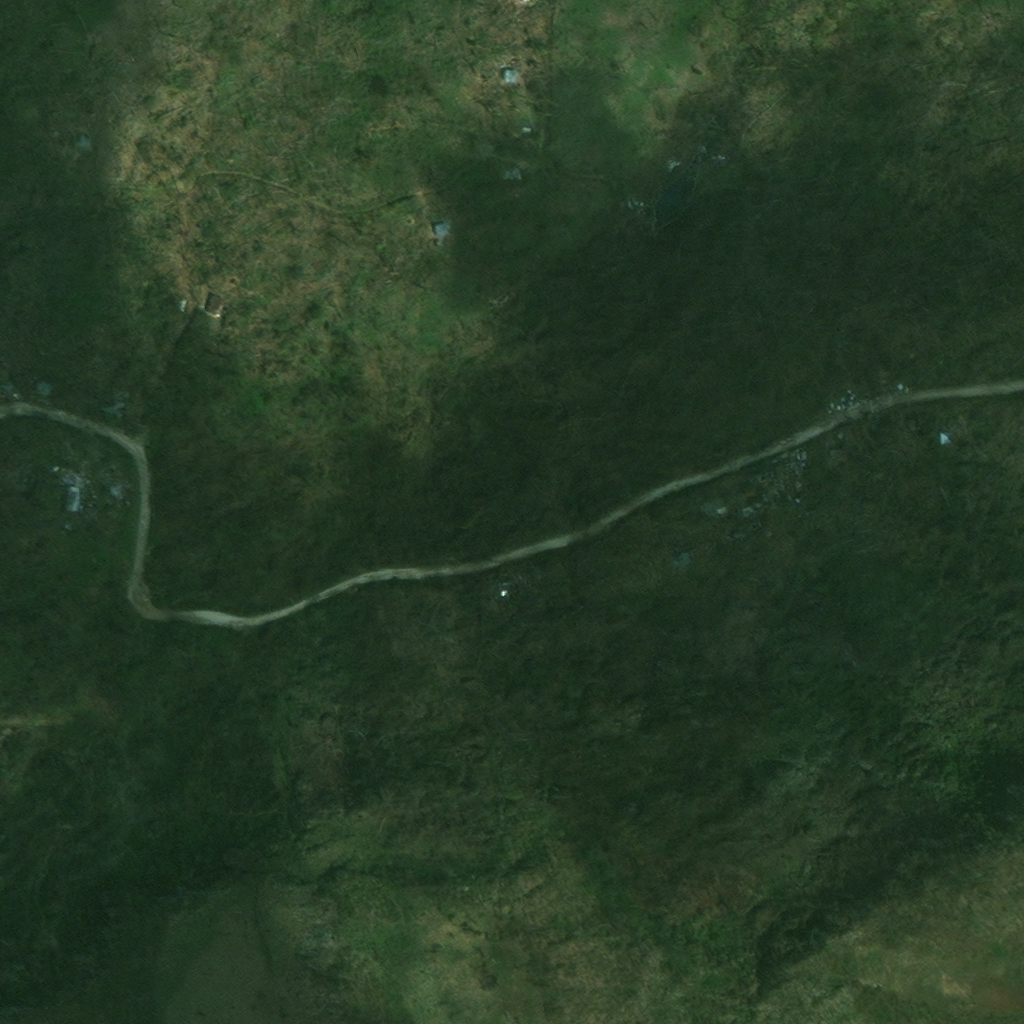destroyed: (110, 394, 131, 416), (39, 379, 56, 395), (106, 469, 119, 484), (5, 384, 18, 396), (726, 507, 735, 516)
major_damage: (945, 416, 962, 442)
minor_damage: (217, 295, 235, 317), (66, 484, 79, 509), (87, 133, 103, 147), (506, 67, 518, 81), (436, 222, 448, 235)
unclassified: (681, 513, 705, 534), (706, 549, 728, 571), (798, 463, 822, 480), (523, 580, 547, 597), (775, 514, 792, 534), (862, 450, 873, 464), (485, 71, 495, 82), (88, 489, 97, 500), (443, 245, 449, 254), (528, 0, 539, 4)
